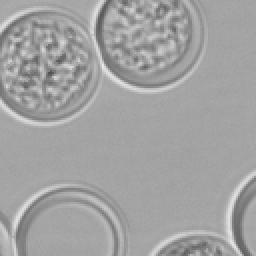picoshell: (0, 6, 102, 124), (90, 0, 206, 92), (14, 184, 128, 254), (226, 170, 254, 254), (148, 230, 238, 254), (0, 212, 16, 254)
